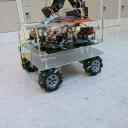cart: (16, 18, 106, 93)
